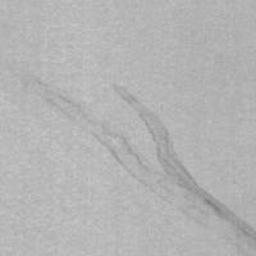Water spot: (35, 81, 256, 256)
